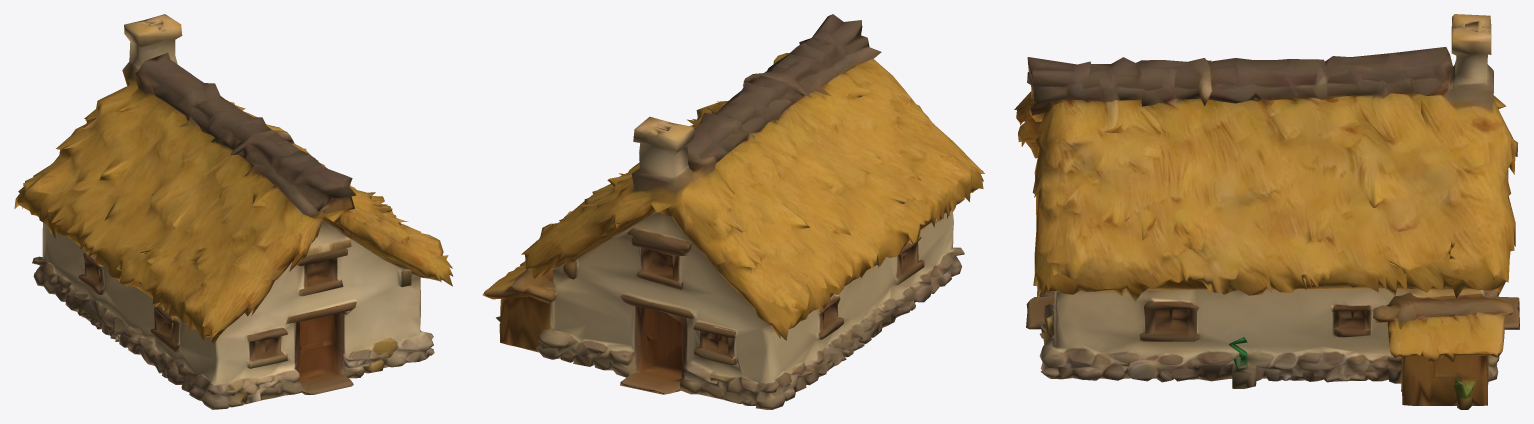
File: tripo_thatched_farmhouse.glb
3 renders of one model, left to right at view 1: azimuth 30°, elevation 25°; view 2: azimuth 150°, elevation 25°; view 3: azimuth 270°, elevation 25°, orthographic. The views are drawn at different scales.
Visible parts, largest first — view 1: thatched_farmhouse; view 2: thatched_farmhouse; view 3: thatched_farmhouse.
Part boxes in pixels (left/top/right/bottom): thatched_farmhouse: left=14, top=14, right=453, bottom=409; thatched_farmhouse: left=482, top=14, right=984, bottom=409; thatched_farmhouse: left=1014, top=14, right=1519, bottom=409.
Bounding box in the file's own units: 9.21 × 7 × 10.97.
Materials: 1 (1 with a texture image).
